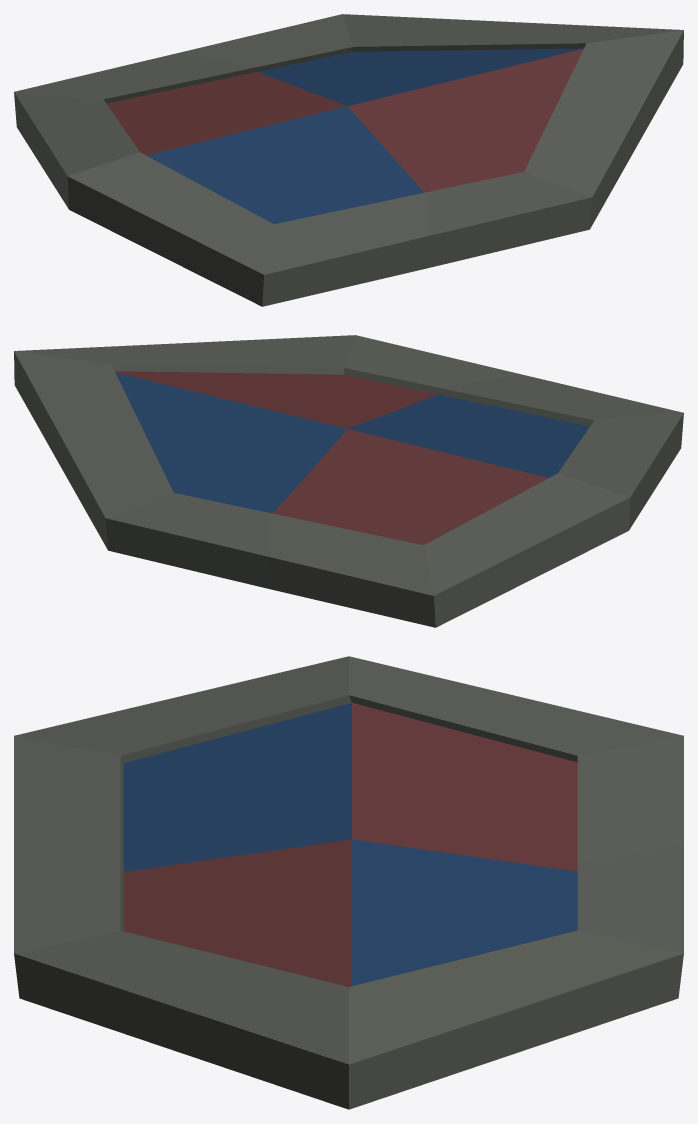
File: shield.fbx
3 renders of one model, top to bottom at view 1: azimuth 30°, elevation 25°; view 2: azimuth 150°, elevation 25°; view 3: azimuth 270°, elevation 25°, orthographic. The views are drawn at different scales.
Parts seen in each view (by area): view 1: Plane; view 2: Plane; view 3: Plane.
Boxes of the visible parts, bbox=[...] form: Plane: bbox=[14, 14, 683, 306]; Plane: bbox=[14, 335, 683, 627]; Plane: bbox=[14, 656, 683, 1109].
Bounding box in the file's own units: 285 × 29.56 × 200.
